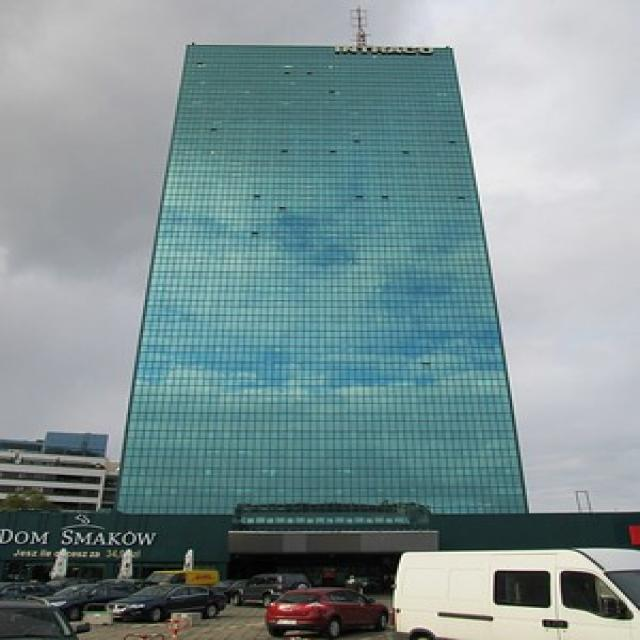Normal_building: (114, 36, 532, 517)
